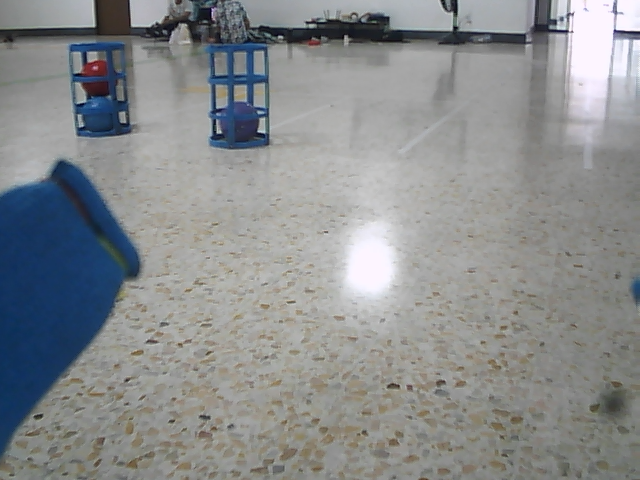Blue ball: (80, 95, 117, 131)
Cyro: (204, 39, 272, 152), (67, 41, 135, 140)
Purple ball: (219, 99, 260, 143)
Red ball: (79, 59, 117, 97)
